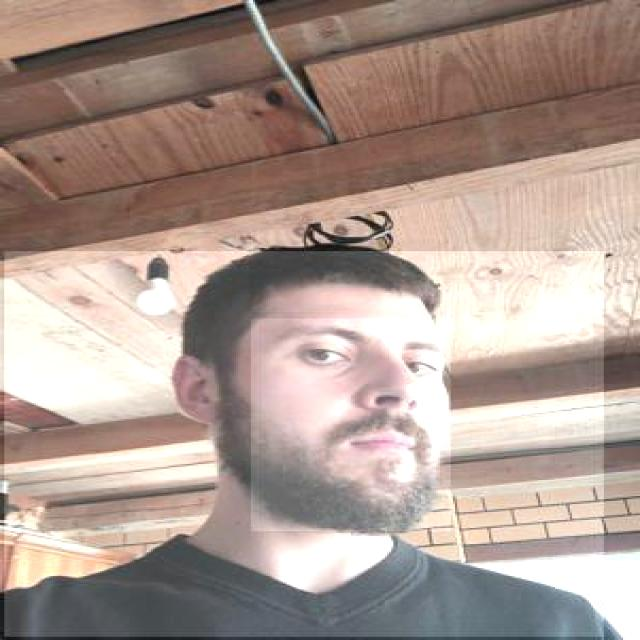face_nomask: (251, 318, 451, 532)
head_nohelmet: (249, 240, 446, 315)
person: (2, 252, 604, 638)
